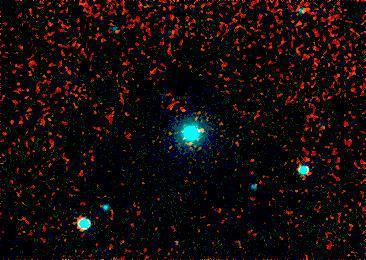star: (188, 114, 218, 144)
